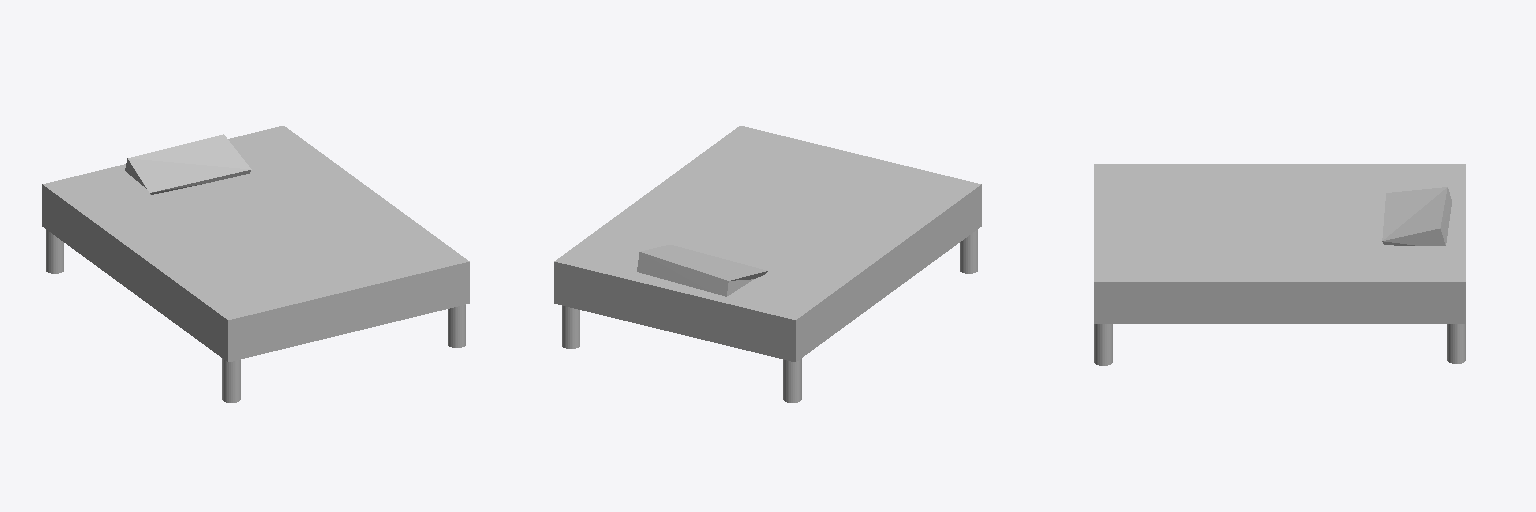
File: bed.obj
3 renders of one model, left to right at view 1: azimuth 30°, elevation 25°; view 2: azimuth 150°, elevation 25°; view 3: azimuth 270°, elevation 25°, orthographic.
Size of the model in its own units: 6 by 2.43 by 8.